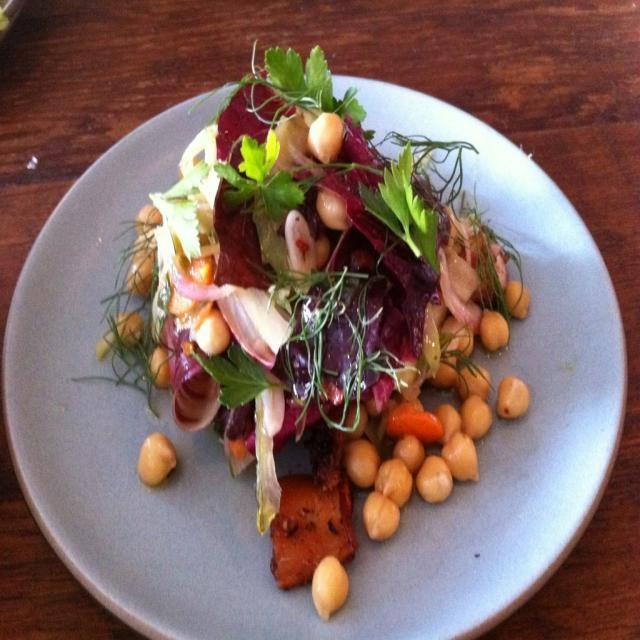Salad: (67, 32, 535, 620)
